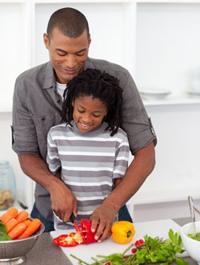person: (10, 7, 158, 236)
